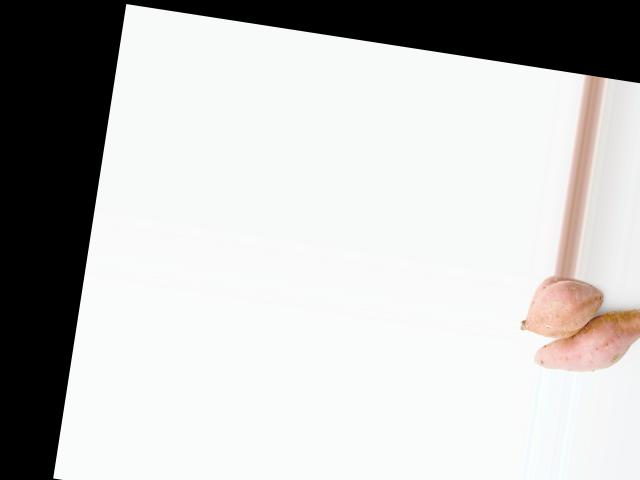sweet_potato: (519, 279, 600, 338)
